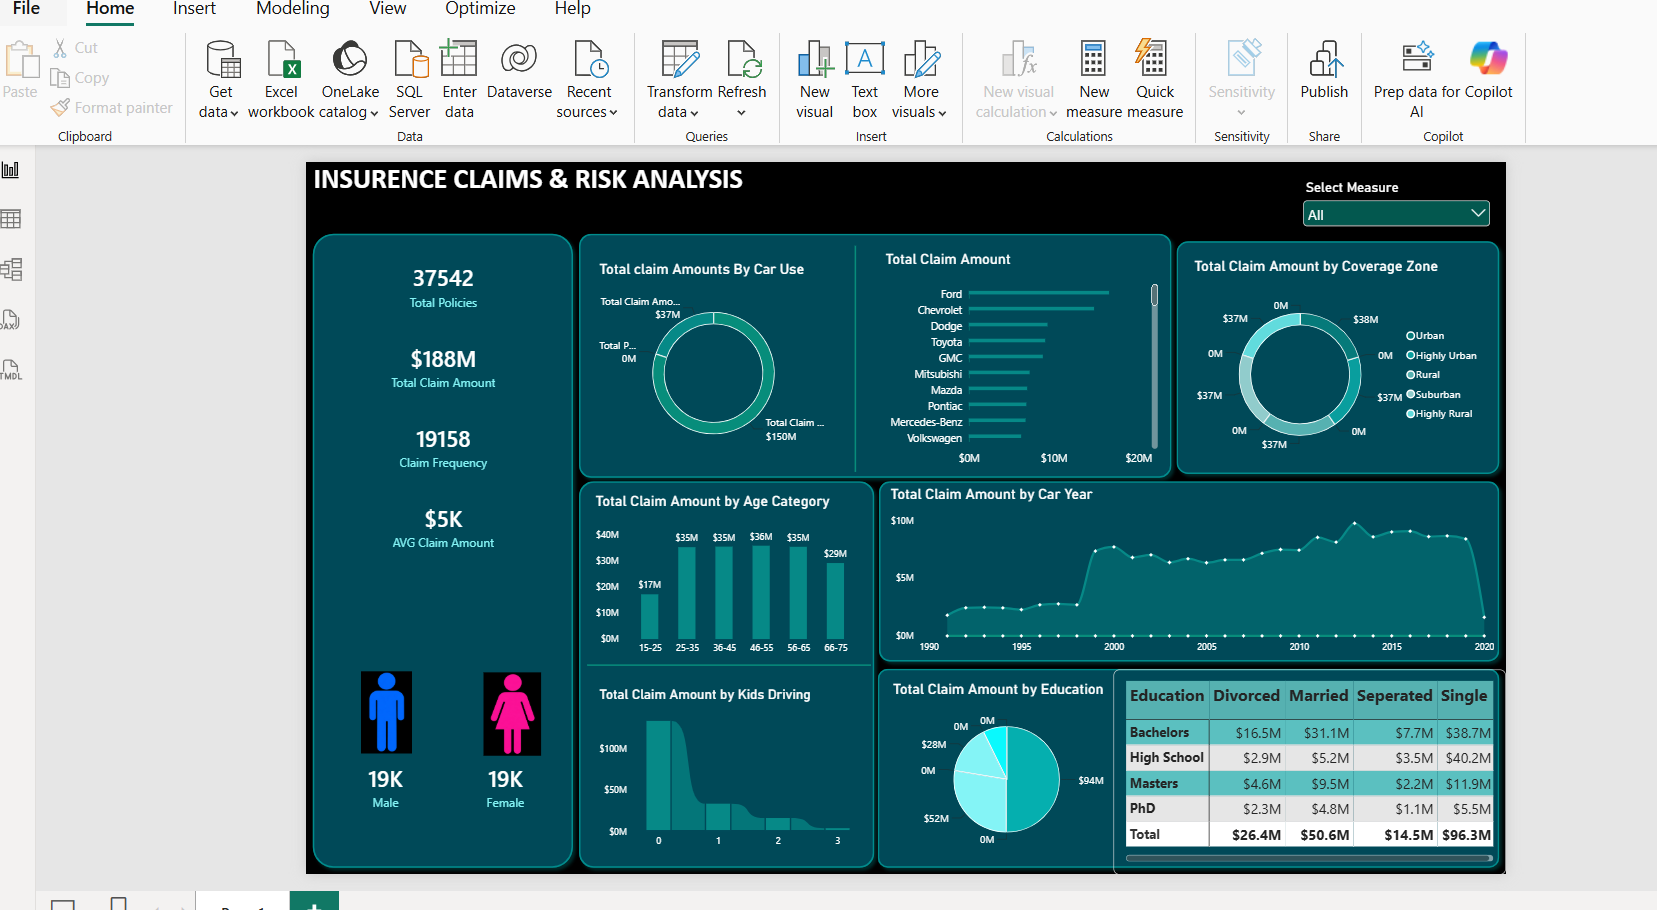

Layout of this report page (visuals, bound fields, positions):
{"tool":"powerbi","page":{"name":"Page 1","canvas":[1600,950],"ordinal":0},"visuals":[{"type":"textbox","box":[10,0,608.2,52.7],"z":0},{"type":"shape","box":[0,86.7,365,863.3],"z":1000},{"type":"cardVisual","fields":{"Data":["insurance_data_car.Total Policies","insurance_data_car.Total Claim Amount","Sum(insurance_data_car.Claim Freq)","insurance_data_car.AVG Claim Amount"]},"box":[26.7,116.7,313.3,423.3],"z":2000},{"type":"cardVisual","fields":{"Data":["insurance_data_car.Male Total Policies","insurance_data_car.Female Total Policies"]},"box":[30,733.3,313.3,200],"z":3000},{"type":"slicer","fields":{"Values":["Select Measure.Select Measure"]},"box":[1325,23.3,258.3,68.3],"z":4000},{"type":"shape","box":[355,86.7,808,343.3],"z":5000},{"type":"donutChart","title":"Total claim Amounts By Car Use","fields":{"Category":["insurance_data_car.Car Use"],"Y":["insurance_data_car.Total Claim Amount","insurance_data_car.Total Policies"]},"box":[375,116.7,336.7,293.3],"z":6000},{"type":"clusteredBarChart","title":"Total Claim Amount ","fields":{"Category":["insurance_data_car.Car Make"],"Y":["insurance_data_car.Total Claim Amount","insurance_data_car.Total Policies"]},"box":[756.7,103.3,395,321.7],"z":7000},{"type":"shape","box":[718.3,111.7,28.3,301.7],"z":8000},{"type":"shape","box":[1151.7,96.7,448.3,328.3],"z":9000},{"type":"donutChart","title":"Total Claim Amount by Coverage Zone","fields":{"Category":["insurance_data_car.Coverage Zone"],"Y":["insurance_data_car.Total Claim Amount","insurance_data_car.Total Policies"]},"box":[1168.3,113.3,418.3,303.3],"z":10000},{"type":"shape","box":[355,416.7,411.7,533.3],"z":11000},{"type":"columnChart","title":"Total Claim Amount by Age Category","fields":{"Category":["insurance_data_car.Age Category"],"Y":["insurance_data_car.Total Claim Amount","insurance_data_car.Total Policies"]},"box":[370,426.7,385,250],"z":12000},{"type":"ribbonChart","title":"Total Claim Amount by Kids Driving","fields":{"Category":["insurance_data_car.Kids Driving"],"Y":["insurance_data_car.Total Claim Amount","insurance_data_car.Total Policies"]},"box":[375,685,381.7,248.3],"z":13000},{"type":"shape","box":[375,658.3,378.3,25],"z":14000},{"type":"shape","box":[755,416.7,845,258.3],"z":15000},{"type":"shape","box":[753.3,666.7,846.7,283.3],"z":16000},{"type":"areaChart","title":"Total Claim Amount by Car Year","fields":{"Category":["insurance_data_car.Car Year"],"Y":["insurance_data_car.Total Claim Amount","insurance_data_car.Total Policies"]},"box":[763.3,416.7,836.7,258.3],"z":17000},{"type":"pieChart","title":"Total Claim Amount by Education","fields":{"Category":["insurance_data_car.Education"],"Y":["insurance_data_car.Total Claim Amount","insurance_data_car.Total Policies"]},"box":[766.7,676.7,335,256.7],"z":18000},{"type":"pivotTable","fields":{"Columns":["insurance_data_car.Marital Status"],"Rows":["insurance_data_car.Education"],"Values":["insurance_data_car.Total Claim Amount"]},"box":[1076.7,676.7,523.3,273.3],"z":19000},{"type":"image","box":[73.3,676.7,68.3,115],"z":19001},{"type":"image","box":[236.7,671.7,76.7,128.3],"z":19002}]}

Visuals, with their boxes on the page's 1600x950 design canvas (x1, y1, x2, y2). These are canvas units, not pixel positions in the 1657x910 screenshot, which may show the page scaled, cropped or inside an application window:
textbox: Rect(10, 0, 618, 53)
shape: Rect(0, 87, 365, 950)
cardVisual - insurance_data_car.Total Policies x insurance_data_car.Total Claim Amount: Rect(27, 117, 340, 540)
cardVisual - insurance_data_car.Male Total Policies x insurance_data_car.Female Total Policies: Rect(30, 733, 343, 933)
slicer - Select Measure.Select Measure: Rect(1325, 23, 1583, 92)
shape: Rect(355, 87, 1163, 430)
"Total claim Amounts By Car Use" donutChart: Rect(375, 117, 712, 410)
"Total Claim Amount " clusteredBarChart: Rect(757, 103, 1152, 425)
shape: Rect(718, 112, 747, 413)
shape: Rect(1152, 97, 1600, 425)
"Total Claim Amount by Coverage Zone" donutChart: Rect(1168, 113, 1587, 417)
shape: Rect(355, 417, 767, 950)
"Total Claim Amount by Age Category" columnChart: Rect(370, 427, 755, 677)
"Total Claim Amount by Kids Driving" ribbonChart: Rect(375, 685, 757, 933)
shape: Rect(375, 658, 753, 683)
shape: Rect(755, 417, 1600, 675)
shape: Rect(753, 667, 1600, 950)
"Total Claim Amount by Car Year" areaChart: Rect(763, 417, 1600, 675)
"Total Claim Amount by Education" pieChart: Rect(767, 677, 1102, 933)
pivotTable - insurance_data_car.Marital Status x insurance_data_car.Education: Rect(1077, 677, 1600, 950)
image: Rect(73, 677, 142, 792)
image: Rect(237, 672, 313, 800)
